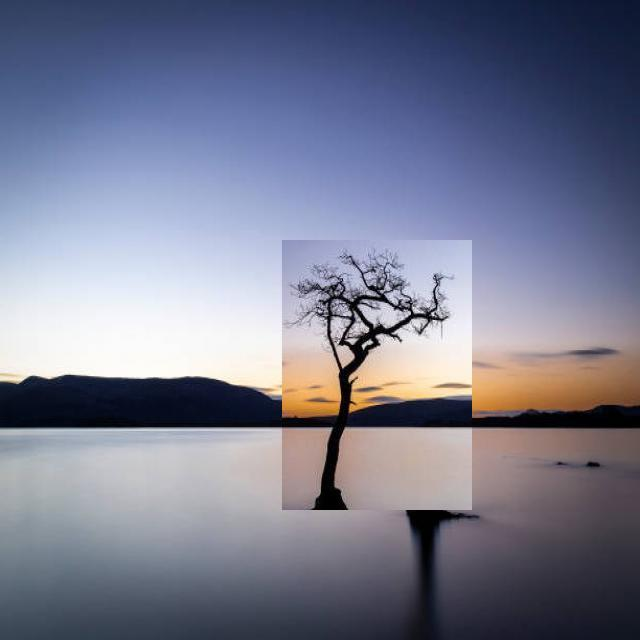tree: (282, 240, 472, 510)
